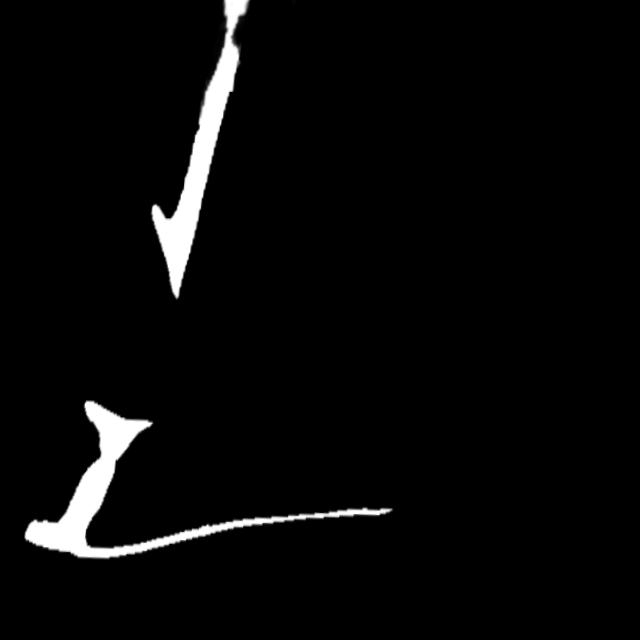sl: (214, 7, 250, 67)
